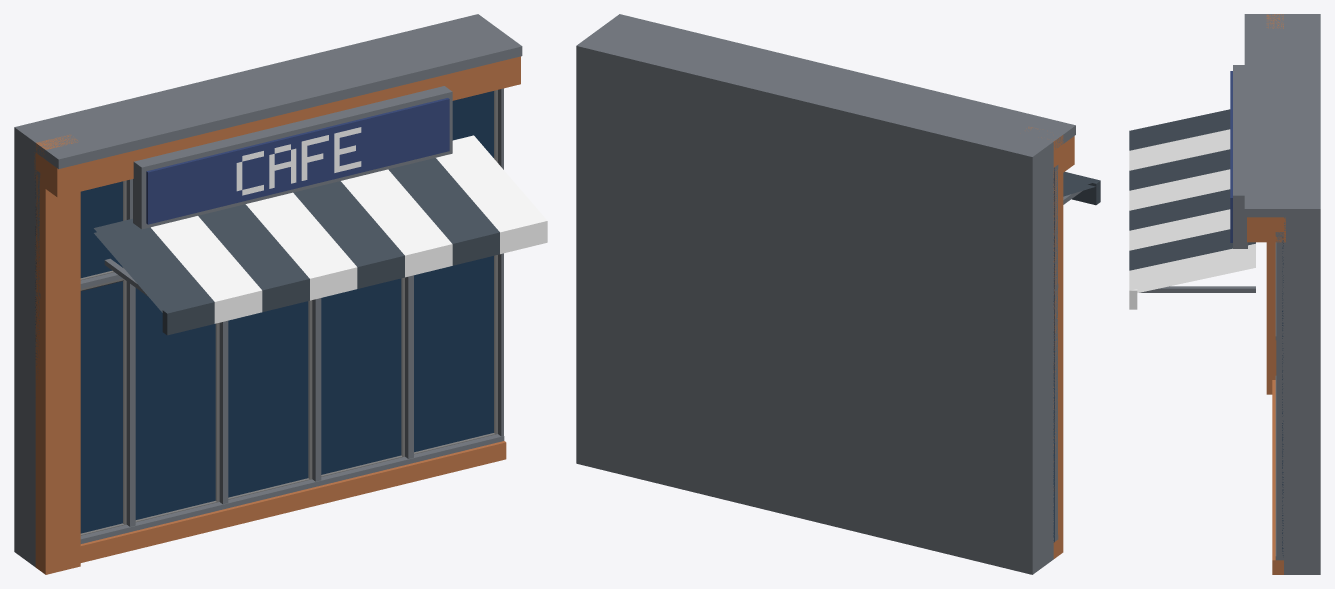
The model's file is base-w1_close.fbx.
The picture shows the model from 3 angles, left to right: view 1: azimuth 30°, elevation 25°; view 2: azimuth 150°, elevation 25°; view 3: azimuth 270°, elevation 25°; orthographic projection. The views are drawn at different scales.
Parts seen in each view (by area): view 1: a2002/0/base-w1.001; view 2: a2002/0/base-w1.001; view 3: a2002/0/base-w1.001.
Boxes of the visible parts, box(x1,y1,x2,y2) form: a2002/0/base-w1.001: box(14, 14, 547, 574); a2002/0/base-w1.001: box(576, 14, 1100, 574); a2002/0/base-w1.001: box(1129, 14, 1320, 574).
Bounding box in the file's own units: 4 × 3.5 × 1.66.
